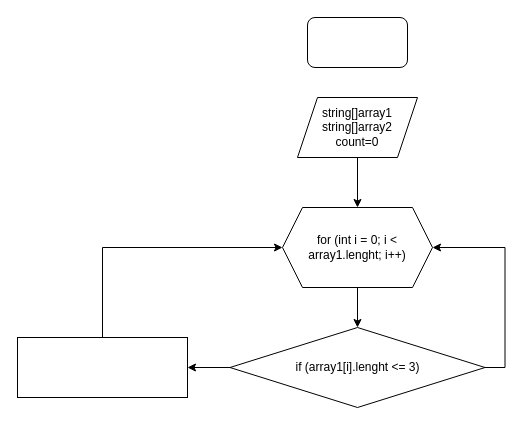
The diagram is 531 pixels wide and 425 high, and some of its shapes have lost their labels. The box of each missing label's shape, as (x1, y1, x2, y2) in pixels:
array2[count] = array1[i] count++: (16, 336, 188, 398)
SecondArrayIf: (306, 16, 408, 68)
